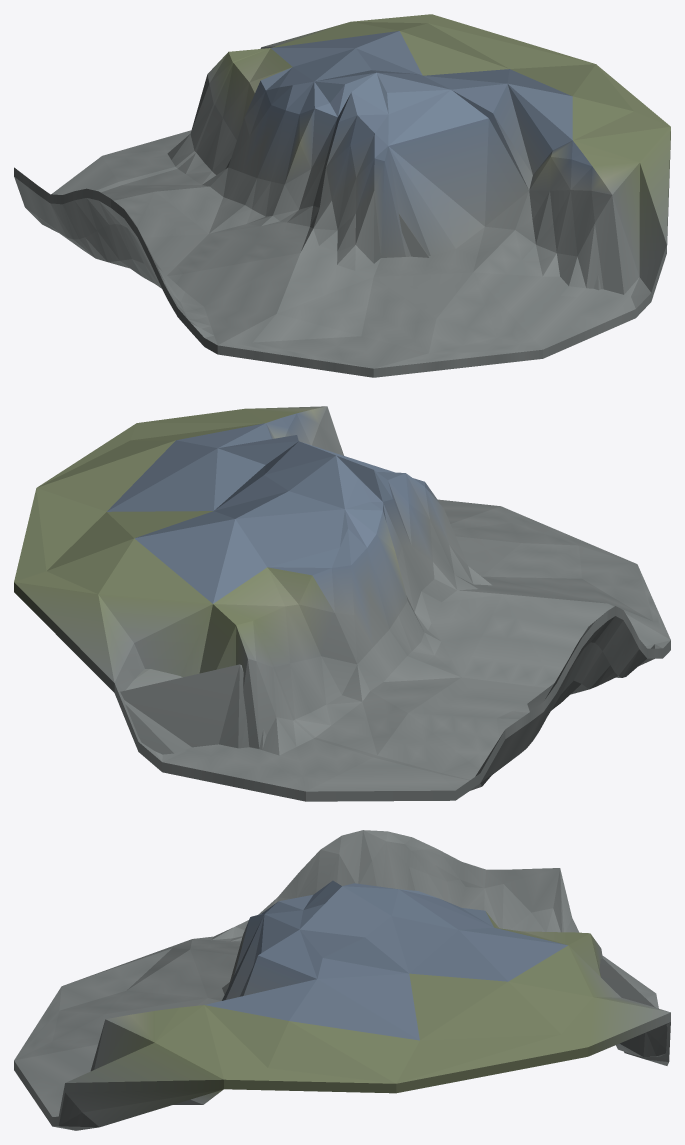
File: massif_east_foothill_lake48.glb
3 views of the same model, one above another, from view 1: azimuth 30°, elevation 25°; view 2: azimuth 150°, elevation 25°; view 3: azimuth 270°, elevation 25° (orthographic). The views are drawn at different scales.
Parts seen in each view (by area): view 1: massif_east_foothill; view 2: massif_east_foothill; view 3: massif_east_foothill.
Boxes of the visible parts, x1,y1,x2,y2 form: massif_east_foothill: (14, 14, 670, 377); massif_east_foothill: (14, 406, 670, 801); massif_east_foothill: (14, 830, 670, 1130).
Bounding box in the file's own units: 633 × 207 × 688.
